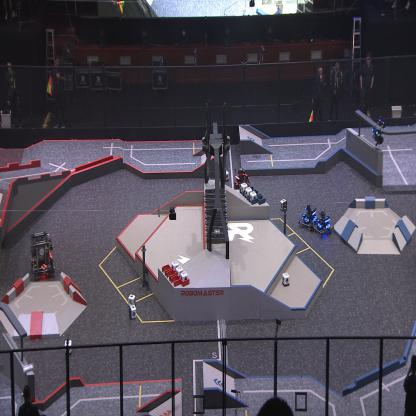car: (30, 229, 56, 281), (312, 207, 334, 238), (298, 202, 318, 230), (233, 167, 252, 195)
